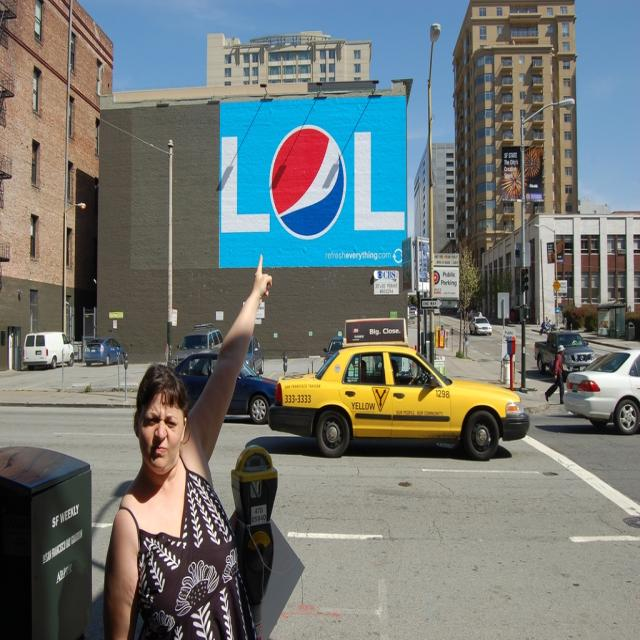pepsi: (269, 125, 348, 241)
